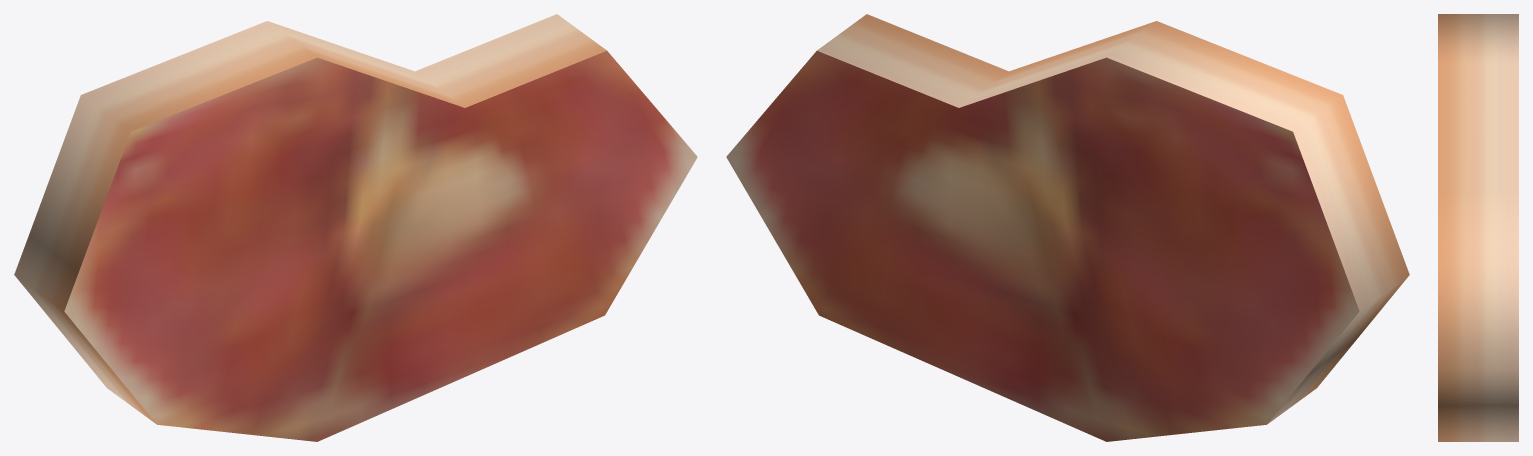
The model's file is Steak_A.fbx.
3 views of the same model, side by side, from view 1: azimuth 30°, elevation 25°; view 2: azimuth 150°, elevation 25°; view 3: azimuth 270°, elevation 25° (orthographic). The views are drawn at different scales.
Parts seen in each view (by area): view 1: Steak_A; view 2: Steak_A; view 3: Steak_A.
Part boxes in pixels (left/top/right/bottom): Steak_A: left=14, top=14, right=697, bottom=441; Steak_A: left=726, top=14, right=1409, bottom=441; Steak_A: left=1438, top=14, right=1518, bottom=441.
Size of the model in its own units: 0.5664 by 0.3284 by 0.0776.
